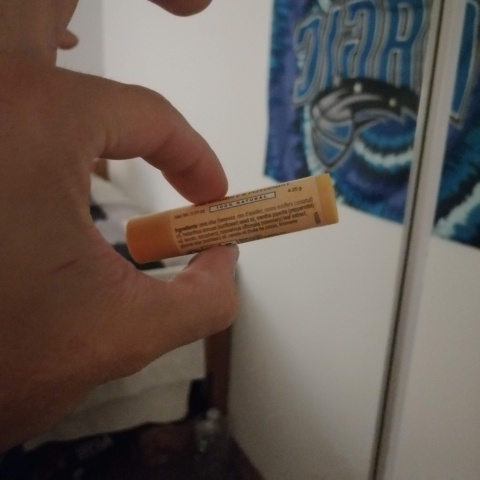chapstick: (126, 170, 341, 265)
